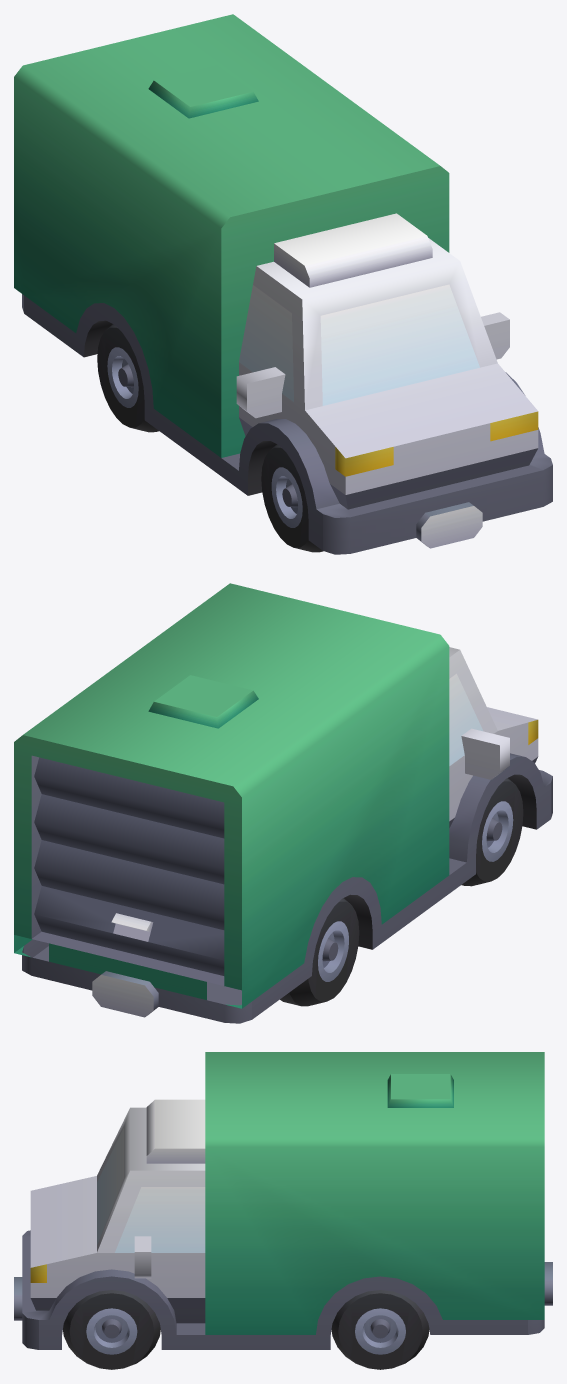
File: delivery.glb
The picture shows the model from 3 angles, top to bottom: view 1: azimuth 30°, elevation 25°; view 2: azimuth 150°, elevation 25°; view 3: azimuth 270°, elevation 25°; orthographic projection. The views are drawn at different scales.
Parts seen in each view (by area): view 1: door; view 2: door; view 3: door.
Part boxes in pixels (left/top/right/bottom): door: left=14, top=14, right=552, bottom=554; door: left=14, top=583, right=552, bottom=1023; door: left=14, top=1052, right=552, bottom=1369.
Size of the model in its own units: 1.5 by 1.65 by 3.25.
1 material, 1 textured.
